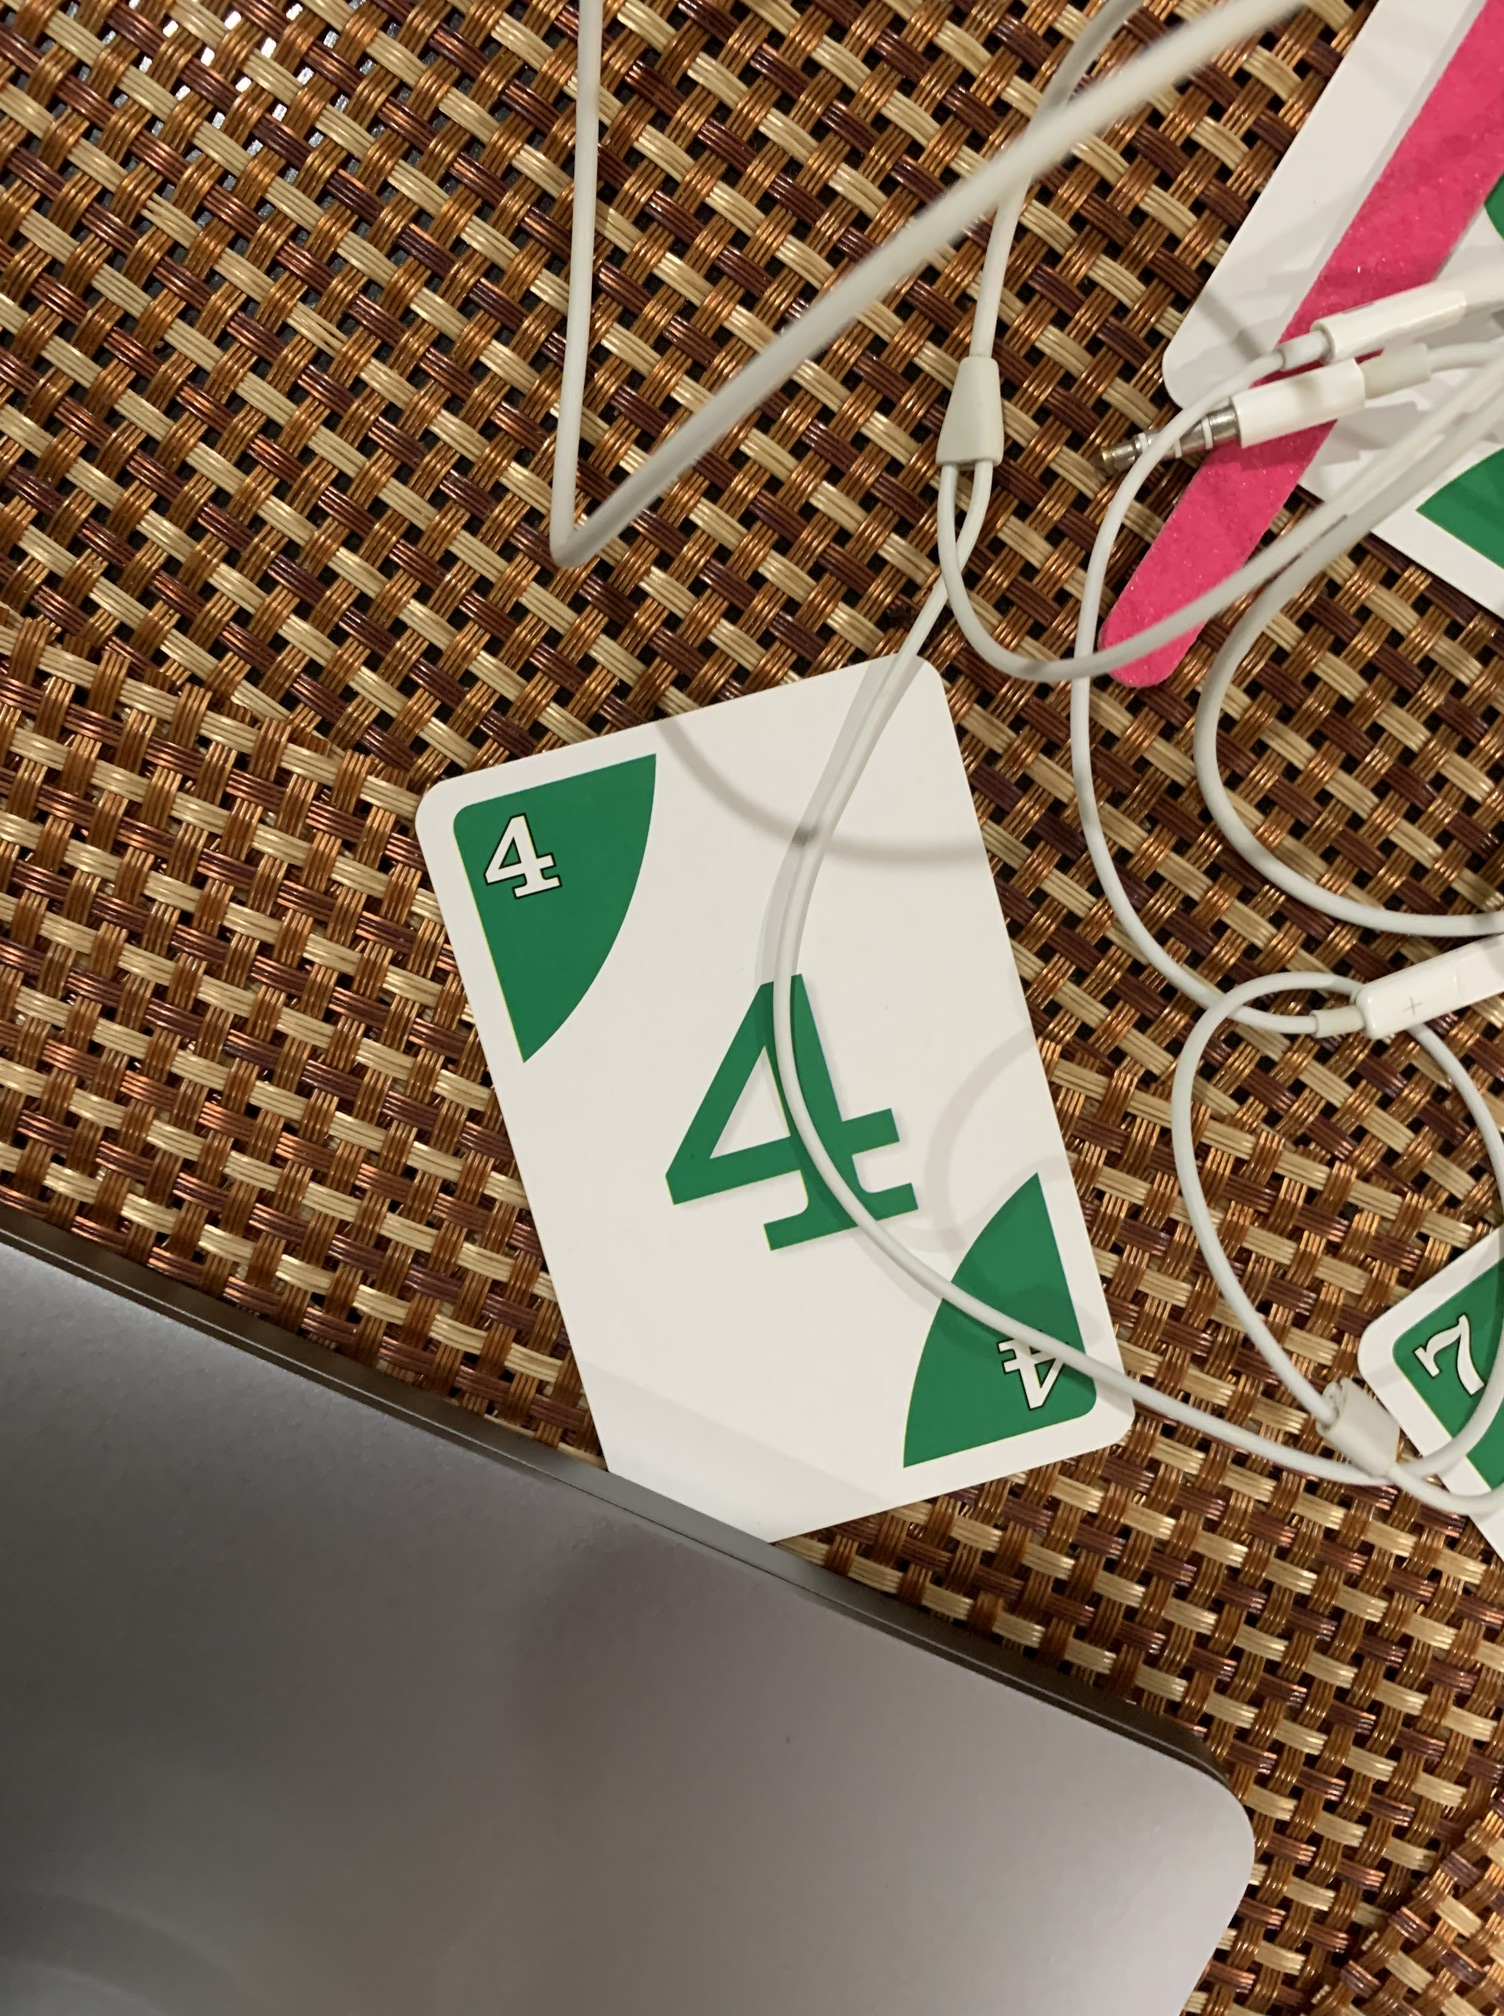four: (412, 649, 1145, 1594)
